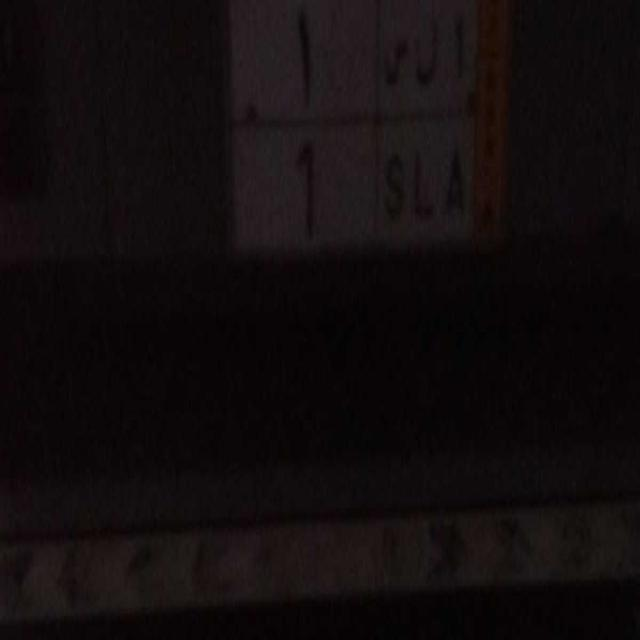license_plate: (237, 104, 475, 258)
